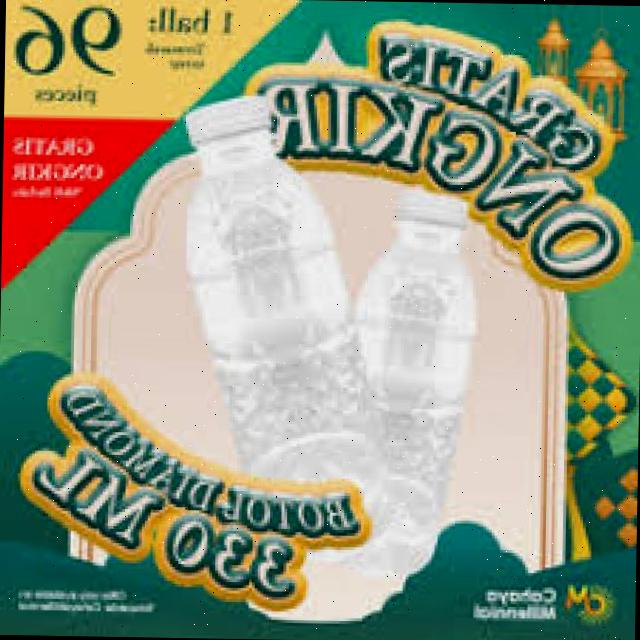bottle: (173, 100, 359, 522), (340, 166, 499, 505)
